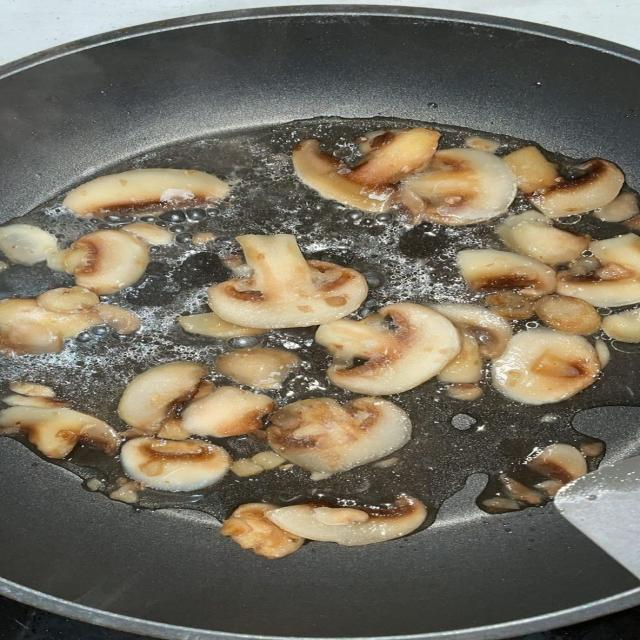champignon mushrooms: (209, 234, 367, 328), (316, 303, 460, 395), (293, 128, 439, 212), (267, 398, 411, 474), (0, 287, 139, 354), (402, 149, 516, 225), (492, 328, 600, 404), (266, 496, 426, 546), (63, 169, 229, 216), (293, 139, 394, 212), (118, 362, 207, 433), (0, 406, 119, 458), (120, 437, 231, 491), (557, 233, 639, 306), (60, 229, 149, 295), (529, 159, 624, 218), (0, 299, 101, 354), (348, 128, 440, 185), (496, 211, 590, 265), (181, 387, 275, 437), (220, 503, 304, 558), (458, 250, 556, 297), (432, 303, 513, 359), (217, 348, 300, 388), (504, 146, 560, 194), (534, 295, 600, 335), (527, 444, 587, 483), (0, 224, 57, 265), (438, 333, 482, 384), (178, 313, 265, 338), (589, 233, 639, 274), (36, 286, 99, 314), (485, 291, 534, 319), (594, 192, 639, 222), (500, 474, 543, 505), (96, 304, 140, 334), (602, 309, 639, 342), (120, 222, 173, 245), (2, 394, 68, 408), (9, 382, 55, 397), (447, 384, 483, 401), (465, 137, 500, 153), (595, 339, 610, 368), (192, 232, 216, 245)
